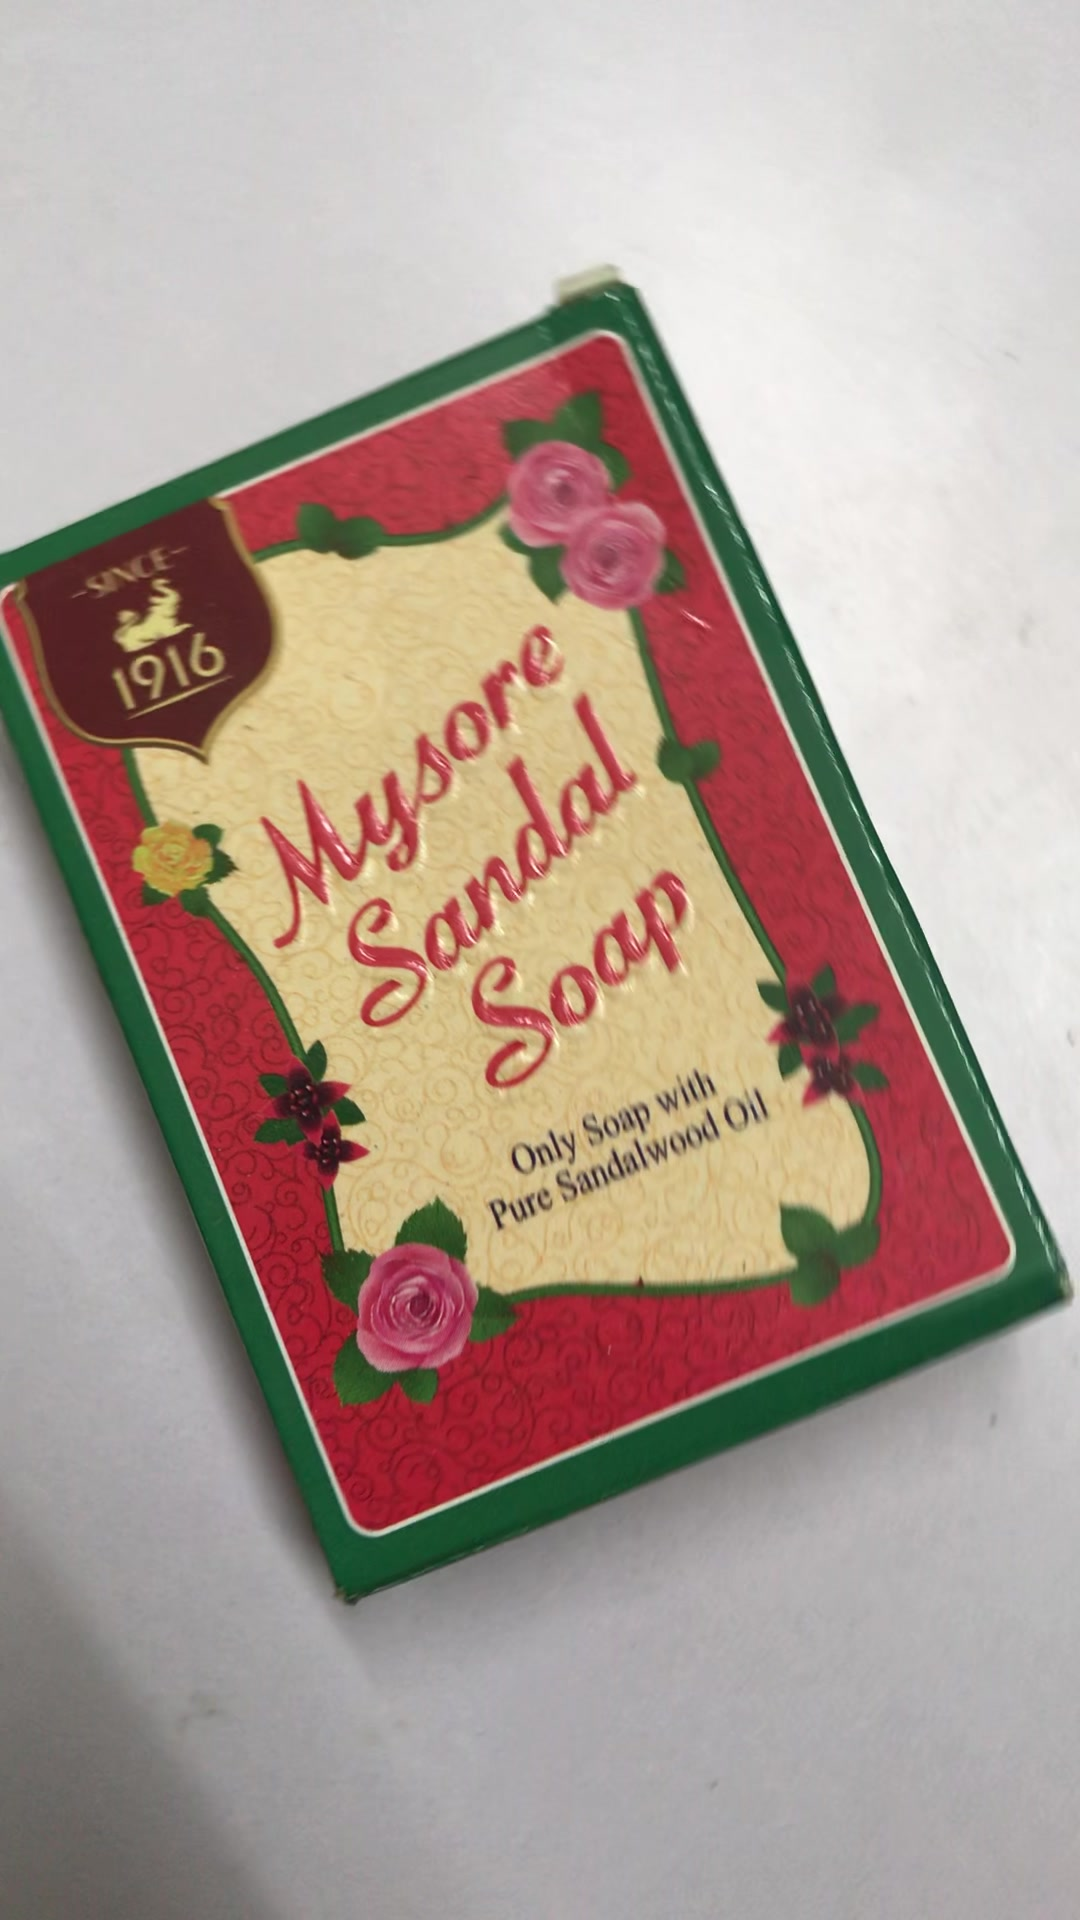mysore sandal soap: (7, 290, 1080, 1607)
